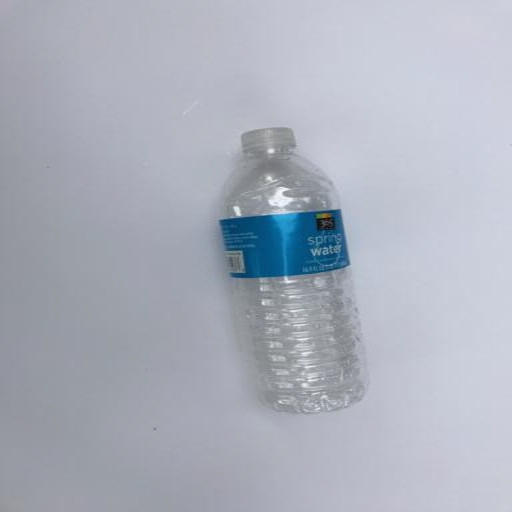Plastic_0: (221, 128, 370, 414)
